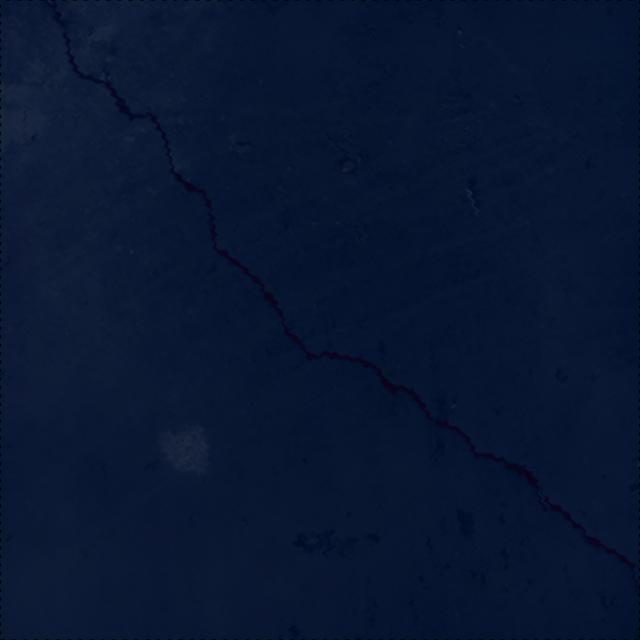crack: (42, 0, 640, 592)
